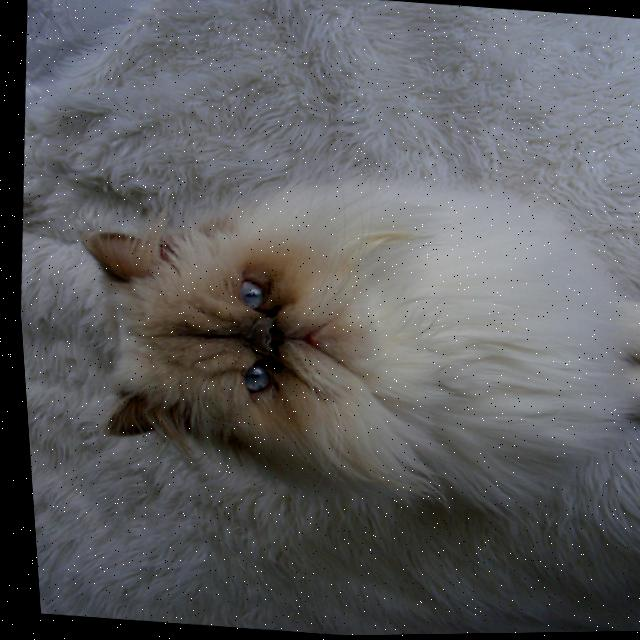Persian: (45, 143, 640, 537)
